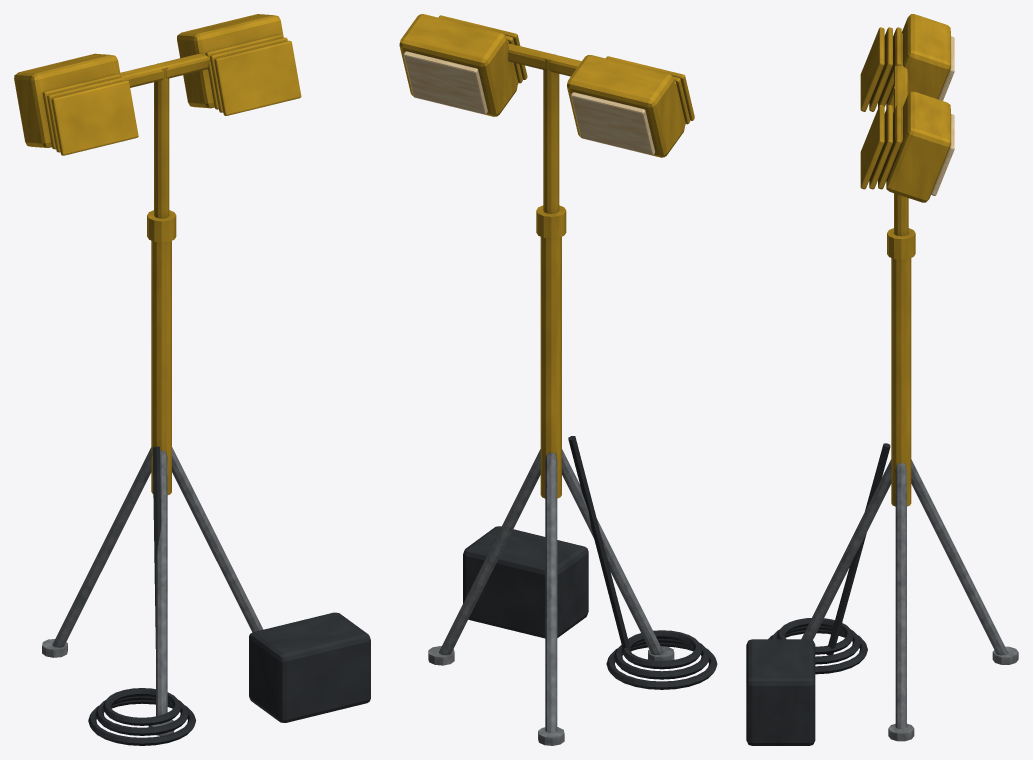
File: base_build_lamp.glb
The picture shows the model from 3 angles, left to right: view 1: azimuth 30°, elevation 25°; view 2: azimuth 150°, elevation 25°; view 3: azimuth 270°, elevation 25°; orthographic projection. The views are drawn at different scales.
Parts seen in each view (by area): view 1: base_build_lamp; view 2: base_build_lamp; view 3: base_build_lamp.
Part boxes in pixels (x1,y1,x2,y2): base_build_lamp: (14, 14, 370, 745); base_build_lamp: (399, 14, 717, 745); base_build_lamp: (746, 14, 1018, 745).
Bounding box in the file's own units: 1.01 × 2.37 × 0.9487.
Materials: 4 (4 with a texture image).
